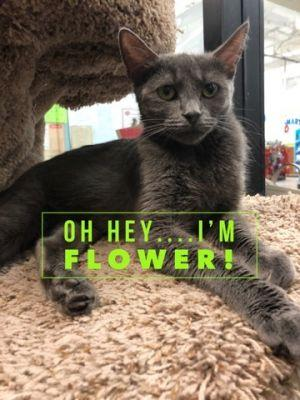rblue: (111, 16, 255, 171)
